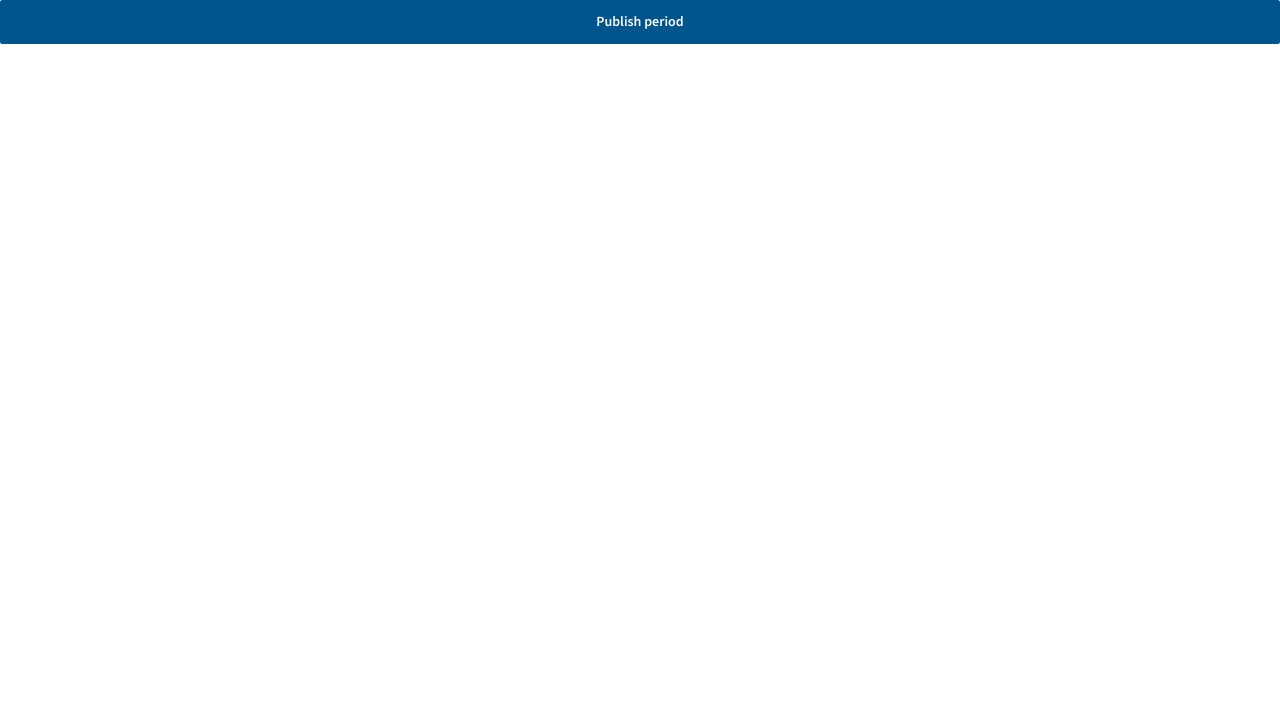
Test: the publish period action › publishes the period and reloads the board
The image size is (1280, 720).
Click the button "Publish period" at (640, 22), box 0,0 -> 1279,44
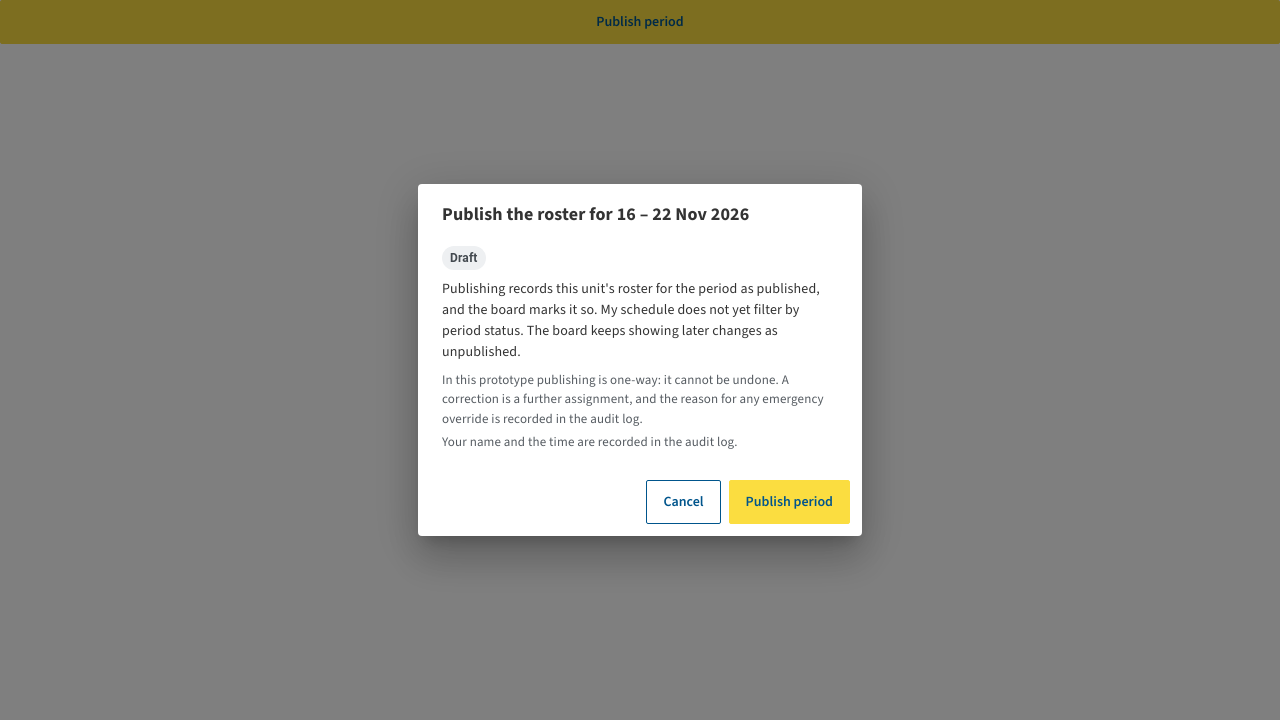
Click the button "Publish period" at (789, 502), box 729,480 -> 850,524
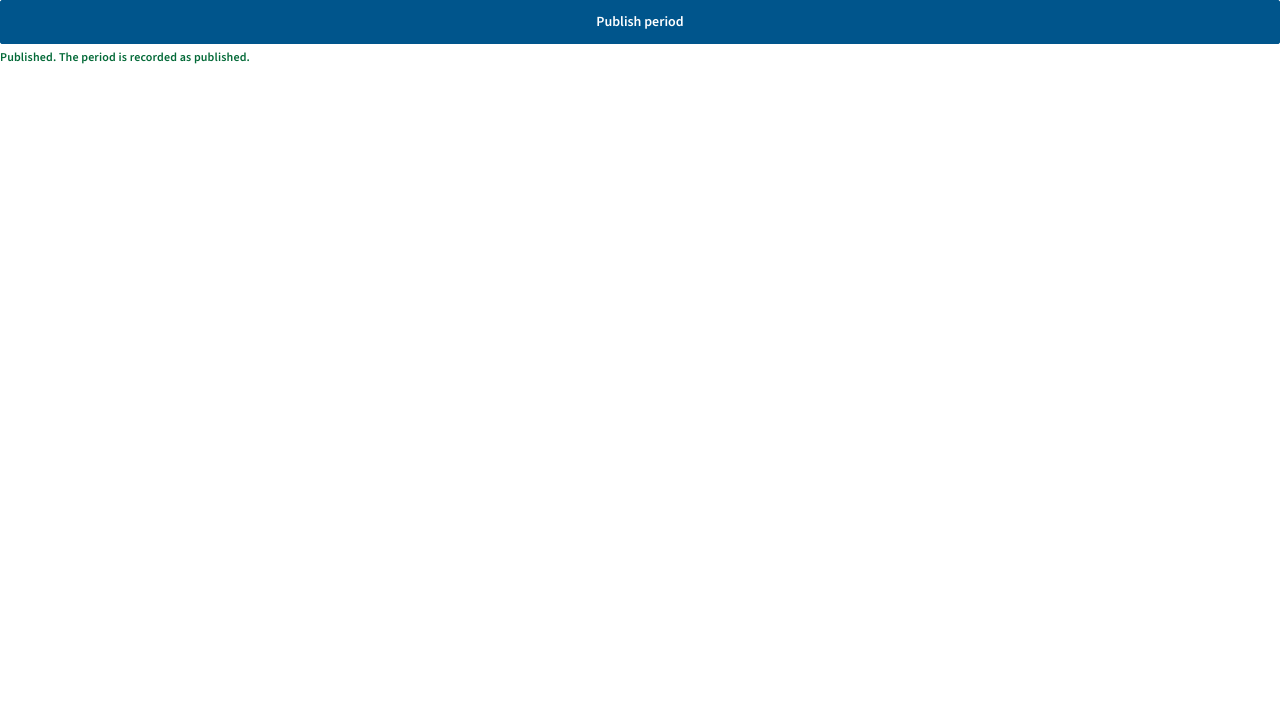
Expected: the text "Published. The period is recorded as published." is shown, 0,49 -> 250,65
